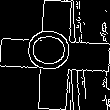O_E: (29, 32, 81, 78)
